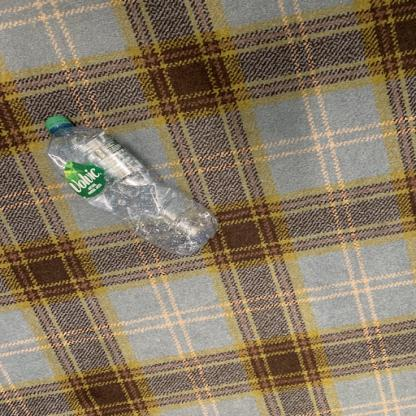plastic-bottles: (34, 110, 228, 263)
